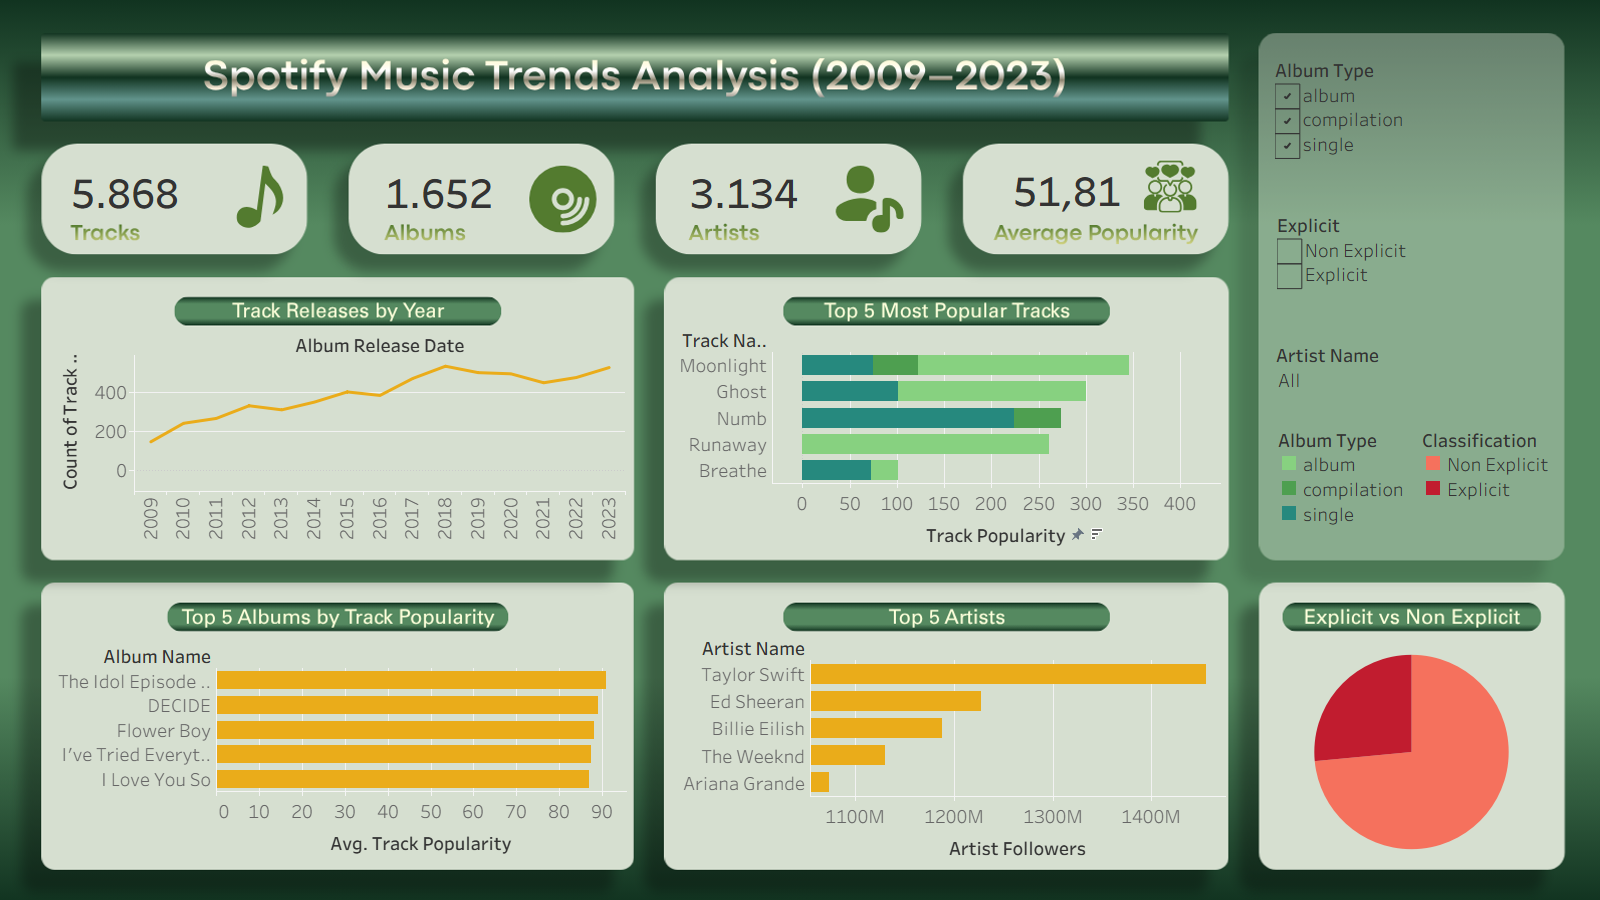

The dashboard page shown, as its layout file describes it:
{"tool":"tableau","page":{"name":"Dashboard 1","canvas":[1600,900],"ordinal":0},"visuals":[{"type":"title","box":[8,8,1584,79]},{"type":"filter","title":"Top 10 Most Popular Tracks","param":"[federated.0z4ccjd1vd5v131a0aeaa0k817j5].[none:album_type:nk]","box":[1275,56,272,150]},{"type":"worksheet","title":"Average Popularity","mark":"Automatic","box":[1009,156,240,68]},{"type":"worksheet","title":"Total Tracks","mark":"Text","box":[67,158,215,63]},{"type":"worksheet","title":"Total Artists","mark":"Automatic","box":[381,158,153,62]},{"type":"worksheet","title":"Total Albums","mark":"Automatic","box":[686,158,175,65]},{"type":"filter","title":"Explicit vs Non Explicit","param":"[federated.0z4ccjd1vd5v131a0aeaa0k817j5].[none:explicit:nk]","box":[1277,211,270,118]},{"type":"worksheet","title":"Top 10 Most Popular Tracks","mark":"Automatic","rows":["track_name"],"cols":["track_popularity"],"box":[672,332,548,222]},{"type":"worksheet","title":"Track Releases by Year","mark":"Line","rows":["track_name"],"cols":["album_release_date"],"box":[50,335,575,216]},{"type":"filter","title":"Top 10 Artists by Followers","param":"[federated.0z4ccjd1vd5v131a0aeaa0k817j5].[none:artist_name:nk]","box":[1276,341,270,60]},{"type":"legend","title":"Top 10 Most Popular Tracks","param":"[federated.0z4ccjd1vd5v131a0aeaa0k817j5].[none:album_type:nk]","box":[1277,425,134,101]},{"type":"legend","title":"Explicit vs Non Explicit","param":"[federated.0z4ccjd1vd5v131a0aeaa0k817j5].[none:explicit:nk]","box":[1421,425,138,92]},{"type":"worksheet","title":"Top 20 Songs","mark":"Automatic","rows":["track_name","artist_name"],"box":[49,638,576,226]},{"type":"worksheet","title":"Top 10 Artists by Followers","mark":"Bar","rows":["artist_name"],"cols":["artist_followers"],"box":[670,640,555,227]},{"type":"worksheet","title":"Explicit vs Non Explicit","mark":"Pie","box":[1262,644,299,216]},{"type":"worksheet","title":"Sheet 11","mark":"Automatic","rows":["album_name"],"cols":["track_popularity"],"box":[56,648,570,214]}]}

Visuals, with their boxes in screenshot pixels (x1, y1, x2, y2), scaled from the page's 1600x900 canvas onto the 1600x900 screenshot:
title: [left=8, top=8, right=1592, bottom=87]
"Top 10 Most Popular Tracks" filter: [left=1275, top=56, right=1547, bottom=206]
"Average Popularity" worksheet: [left=1009, top=156, right=1249, bottom=224]
"Total Tracks" worksheet (Text marks): [left=67, top=158, right=282, bottom=221]
"Total Artists" worksheet: [left=381, top=158, right=534, bottom=220]
"Total Albums" worksheet: [left=686, top=158, right=861, bottom=223]
"Explicit vs Non Explicit" filter: [left=1277, top=211, right=1547, bottom=329]
"Top 10 Most Popular Tracks" worksheet: [left=672, top=332, right=1220, bottom=554]
"Track Releases by Year" worksheet (Line marks): [left=50, top=335, right=625, bottom=551]
"Top 10 Artists by Followers" filter: [left=1276, top=341, right=1546, bottom=401]
"Top 10 Most Popular Tracks" legend: [left=1277, top=425, right=1411, bottom=526]
"Explicit vs Non Explicit" legend: [left=1421, top=425, right=1559, bottom=517]
"Top 20 Songs" worksheet: [left=49, top=638, right=625, bottom=864]
"Top 10 Artists by Followers" worksheet (Bar marks): [left=670, top=640, right=1225, bottom=867]
"Explicit vs Non Explicit" worksheet (Pie marks): [left=1262, top=644, right=1561, bottom=860]
"Sheet 11" worksheet: [left=56, top=648, right=626, bottom=862]
